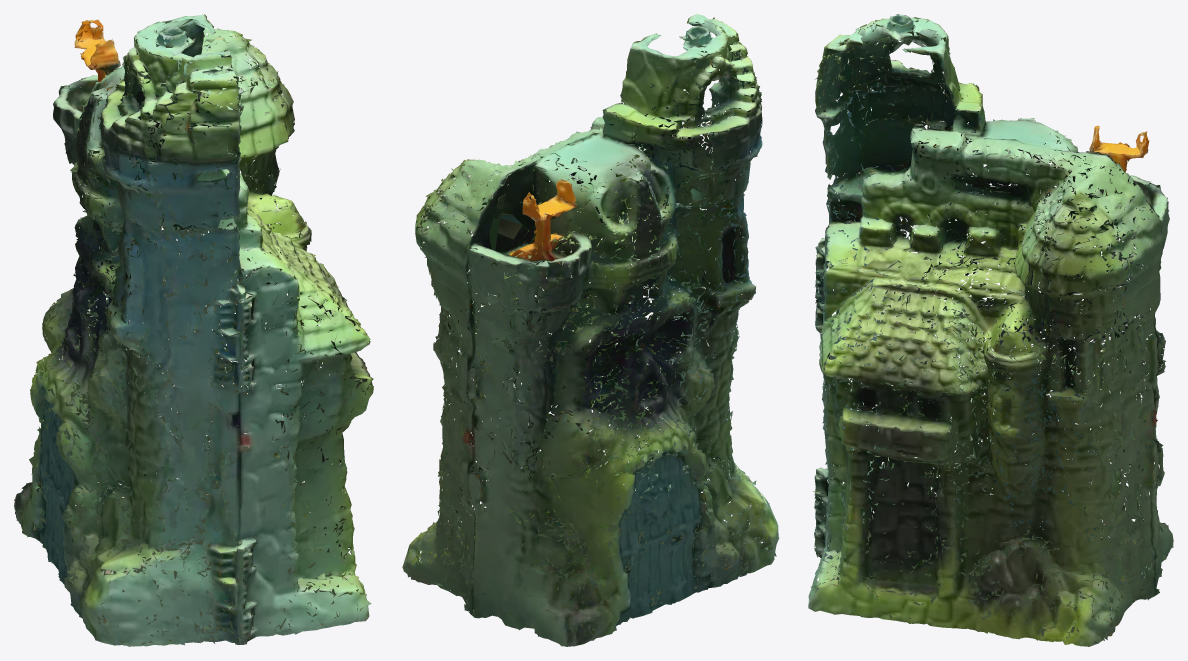
Rendered from grayskull-mattel.glb.
The picture shows the model from 3 angles, left to right: view 1: azimuth 30°, elevation 25°; view 2: azimuth 150°, elevation 25°; view 3: azimuth 270°, elevation 25°; orthographic projection. The views are drawn at different scales.
Parts seen in each view (by area): view 1: grayskull-mattel; view 2: grayskull-mattel; view 3: grayskull-mattel.
Boxes of the visible parts, <box> form: grayskull-mattel: <box>14,14,373,646</box>; grayskull-mattel: <box>402,14,779,646</box>; grayskull-mattel: <box>808,14,1173,646</box>.
Bounding box in the file's own units: 11.3 × 20.13 × 12.56.
Materials: 1 (1 with a texture image).
